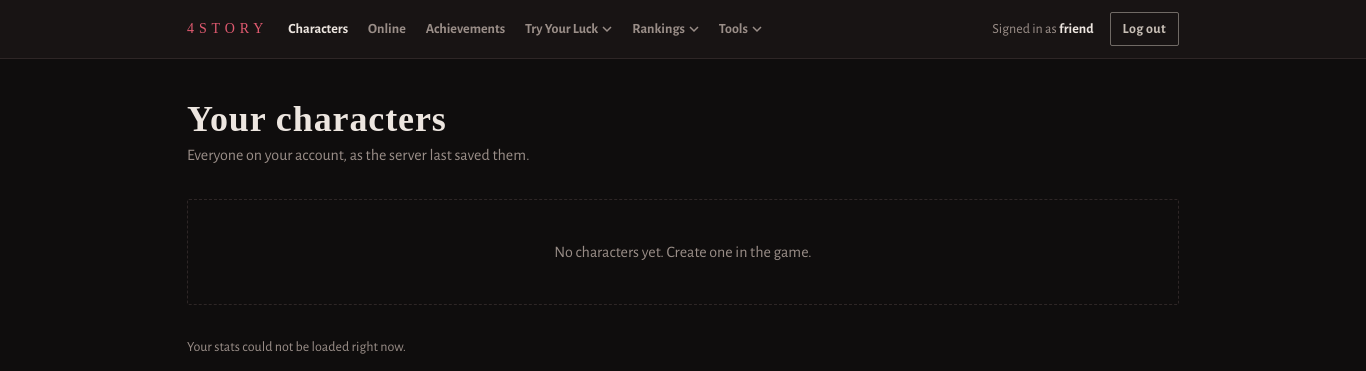
Scenario: header menu › opens a group to show its pages, and closes it again
This screenshot has width=1366, height=371.
Step 1. Click the button "Rankings" → (666, 29), box x1=632 y1=19 x2=699 y2=39
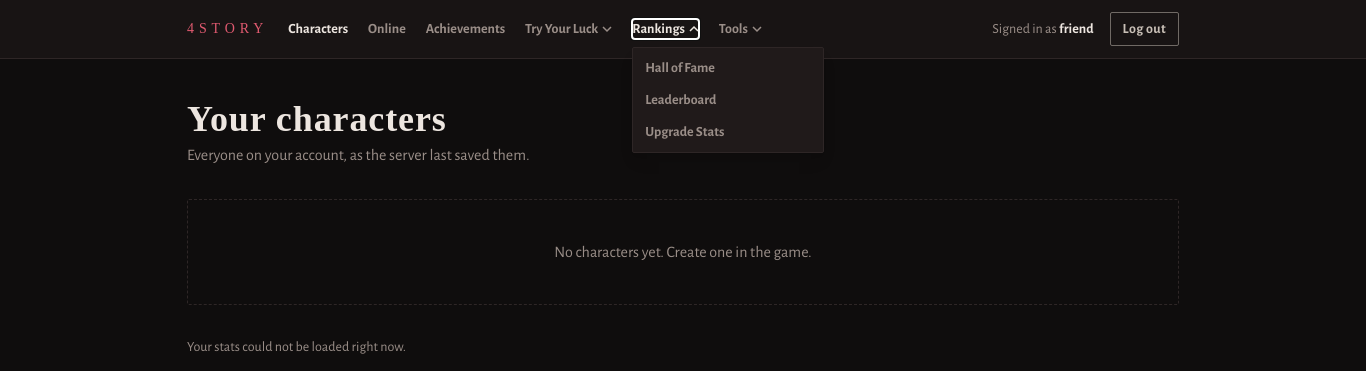
Check: the button "Rankings" is expanded, box x1=632 y1=19 x2=699 y2=39
Check: the links read "Hall of Fame", "Leaderboard", "Upgrade Stats", in this order, box x1=645 y1=61 x2=715 y2=75; x1=645 y1=93 x2=716 y2=107; x1=645 y1=125 x2=724 y2=139
Step 2. Press Escape
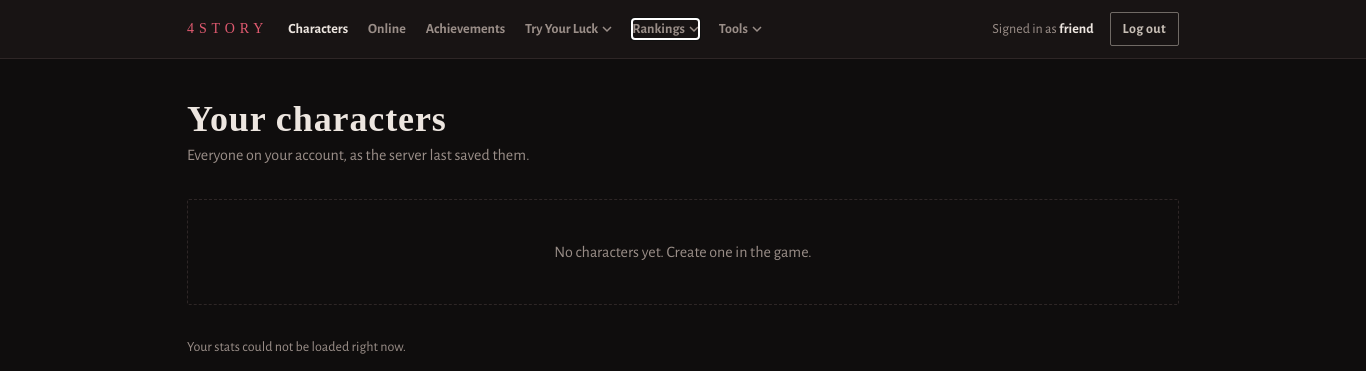
Check: the button "Rankings" is collapsed, box x1=632 y1=19 x2=699 y2=39
